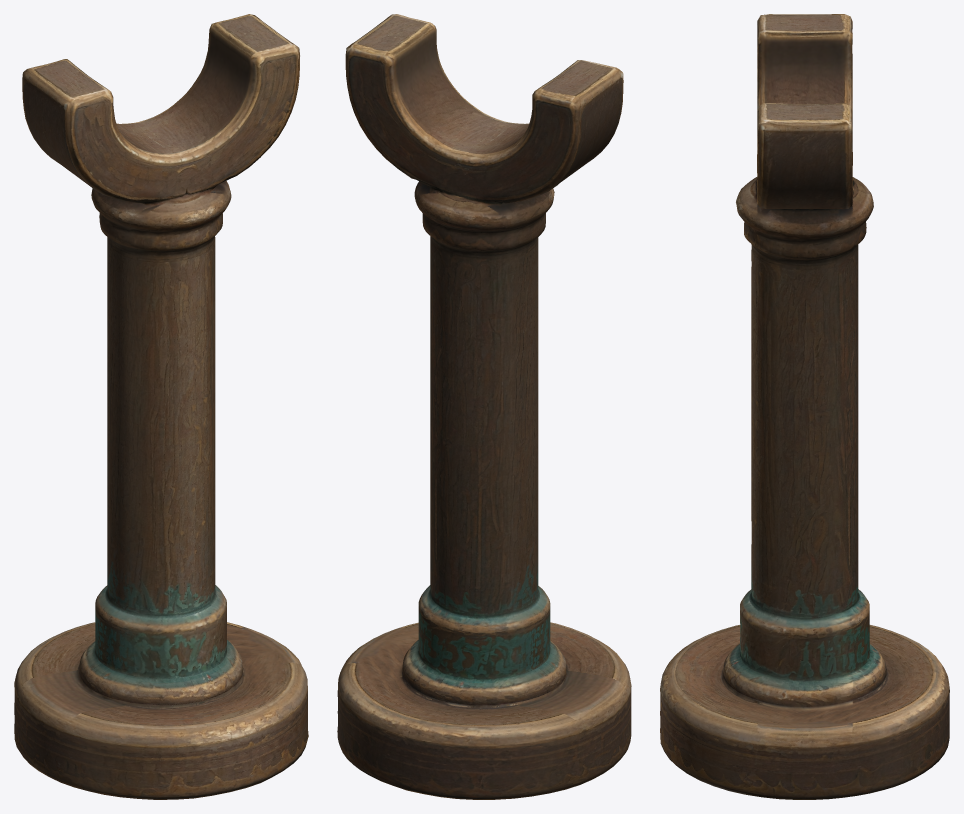
File: Furn_TelescopeStand.fbx
3 views of the same model, side by side, from view 1: azimuth 30°, elevation 25°; view 2: azimuth 150°, elevation 25°; view 3: azimuth 270°, elevation 25° (orthographic).
Visible parts, largest first — view 1: texture_mapping; view 2: texture_mapping; view 3: texture_mapping.
Part boxes in pixels (x1,y1,x2,y2): texture_mapping: [14, 14, 308, 799]; texture_mapping: [337, 14, 631, 799]; texture_mapping: [660, 14, 949, 799].
Bounding box in the file's own units: 0.3905 × 0.3904 × 1.
1 material, 1 textured.
